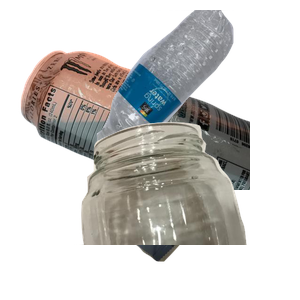glass: (74, 120, 300, 300)
metal: (18, 48, 258, 228)
plastic: (94, 10, 300, 154)
trash: (95, 157, 282, 300)
